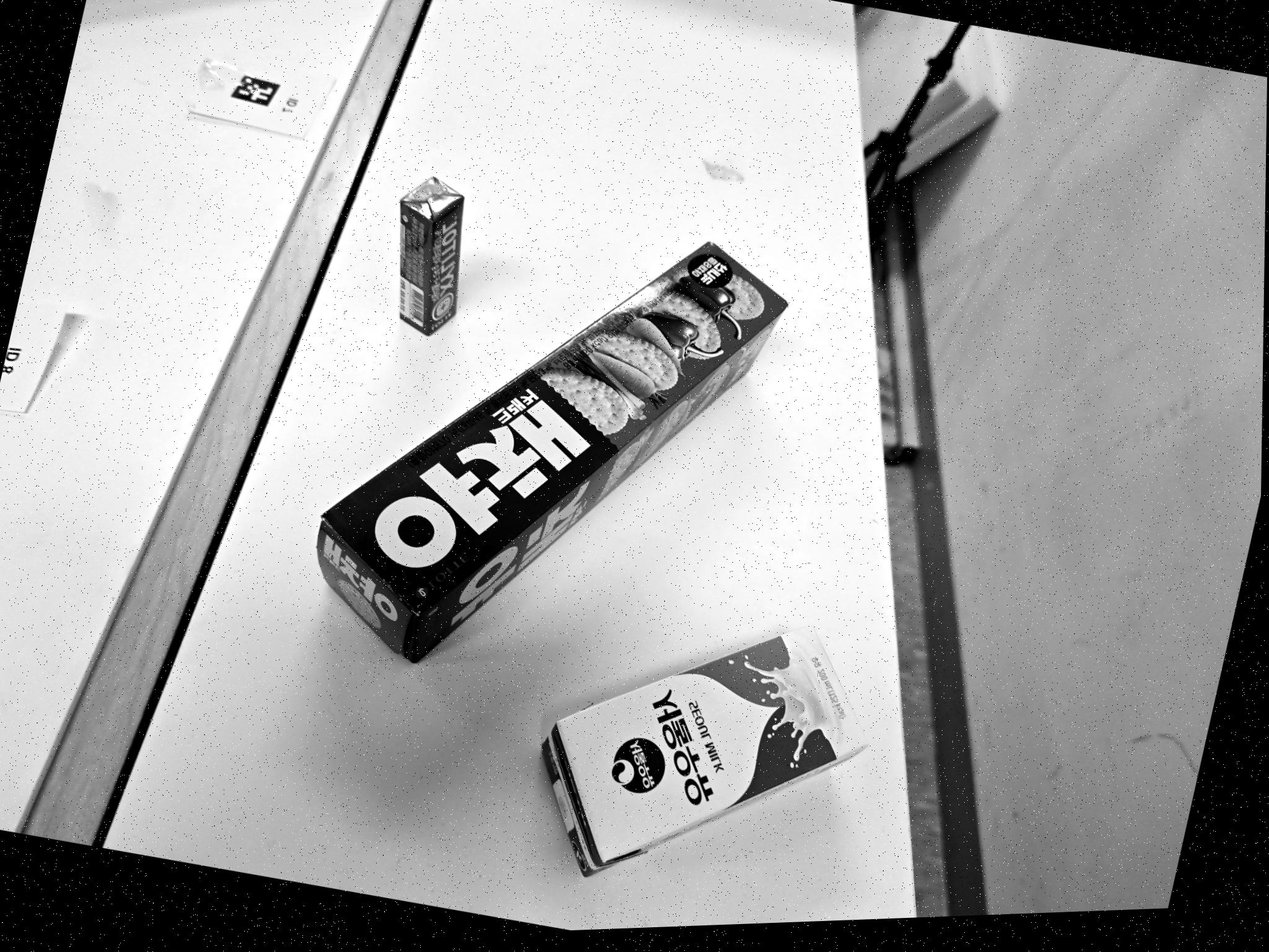cracker_vege: (314, 241, 789, 663)
gum_green: (397, 175, 465, 335)
milk_green: (541, 622, 868, 880)
